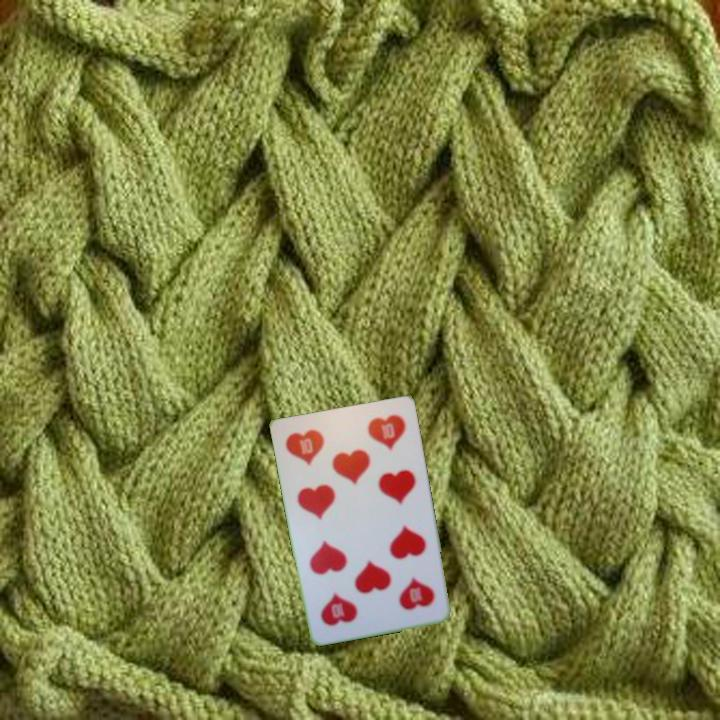h_10.png: (367, 557, 442, 625), (280, 417, 355, 485)
